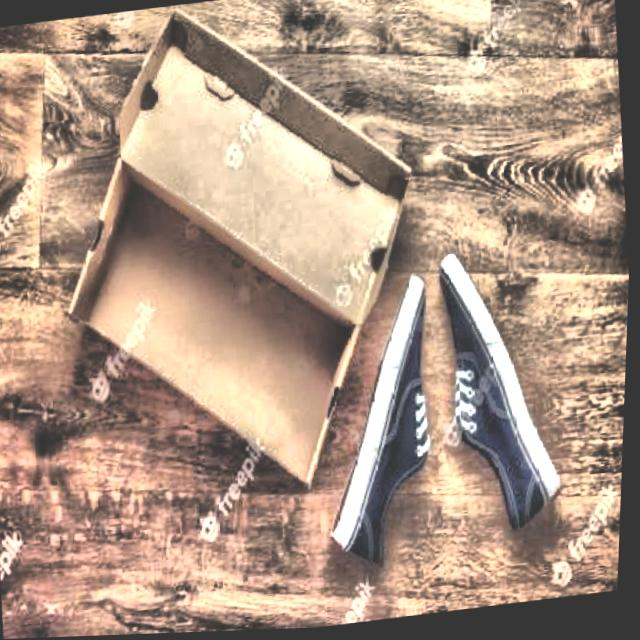Cardbox: (25, 0, 459, 542)
